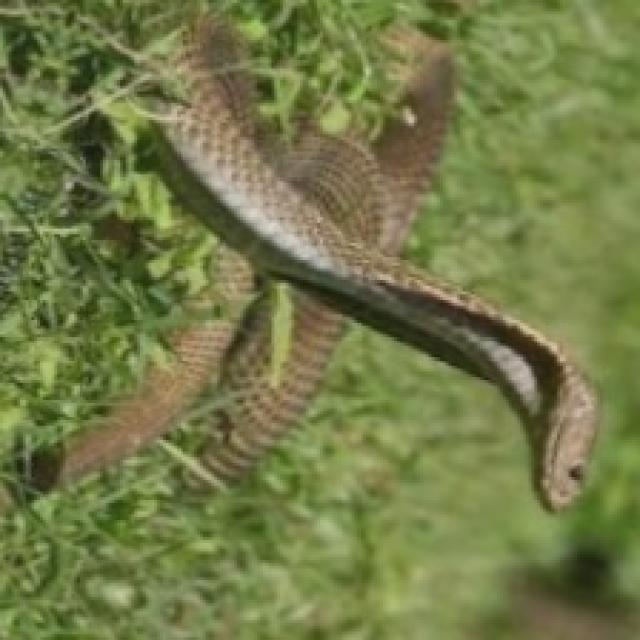philippine cobra: (54, 14, 597, 509)
